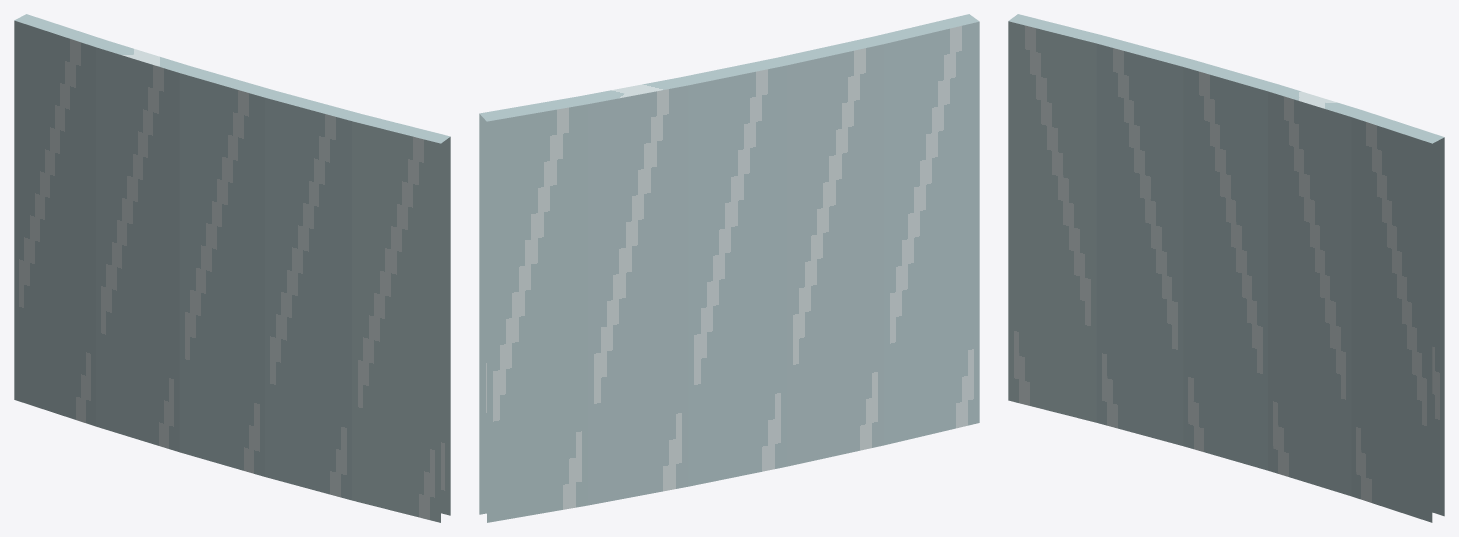
File: curve_glass_05.obj
The picture shows the model from 3 angles, left to right: view 1: azimuth 90°, elevation 25°; view 2: azimuth 150°, elevation 25°; view 3: azimuth 270°, elevation 25°; orthographic projection. The views are drawn at different scales.
Visible parts, largest first — view 1: curve_glass_05; view 2: curve_glass_05; view 3: curve_glass_05.
Part boxes in pixels (x1,y1,x2,y2): curve_glass_05: (14,14,450,522); curve_glass_05: (479,14,979,522); curve_glass_05: (1008,14,1444,522).
Bounding box in the file's own units: 0.7331 × 1 × 1.04.
